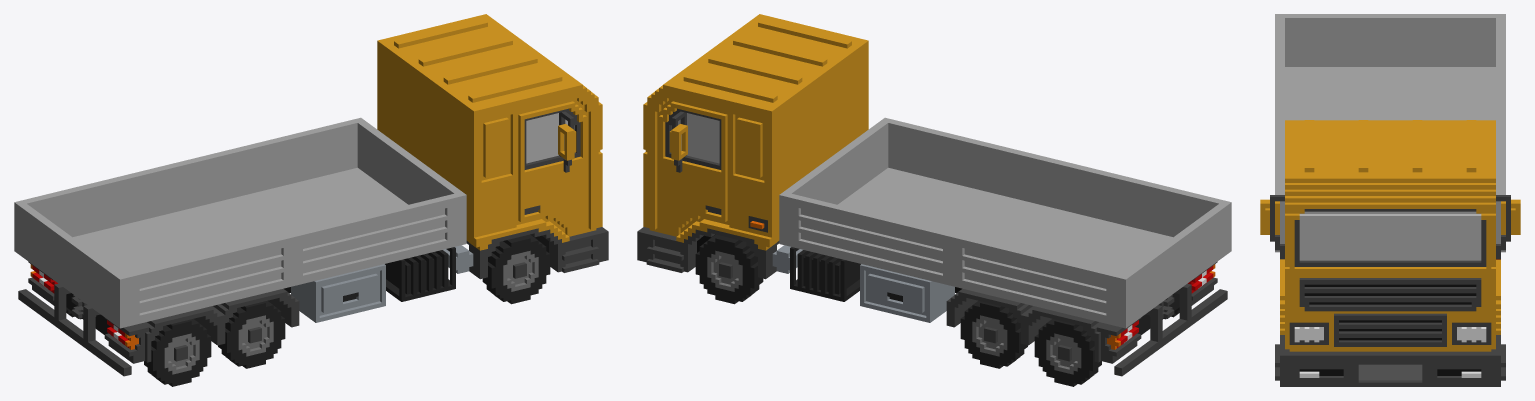
The model's file is truck1.obj.
3 views of the same model, side by side, from view 1: azimuth 30°, elevation 25°; view 2: azimuth 150°, elevation 25°; view 3: azimuth 270°, elevation 25° (orthographic). The views are drawn at different scales.
Bounding box in the file's own units: 12.6 × 5 × 5.3.
1 material, 1 textured.
